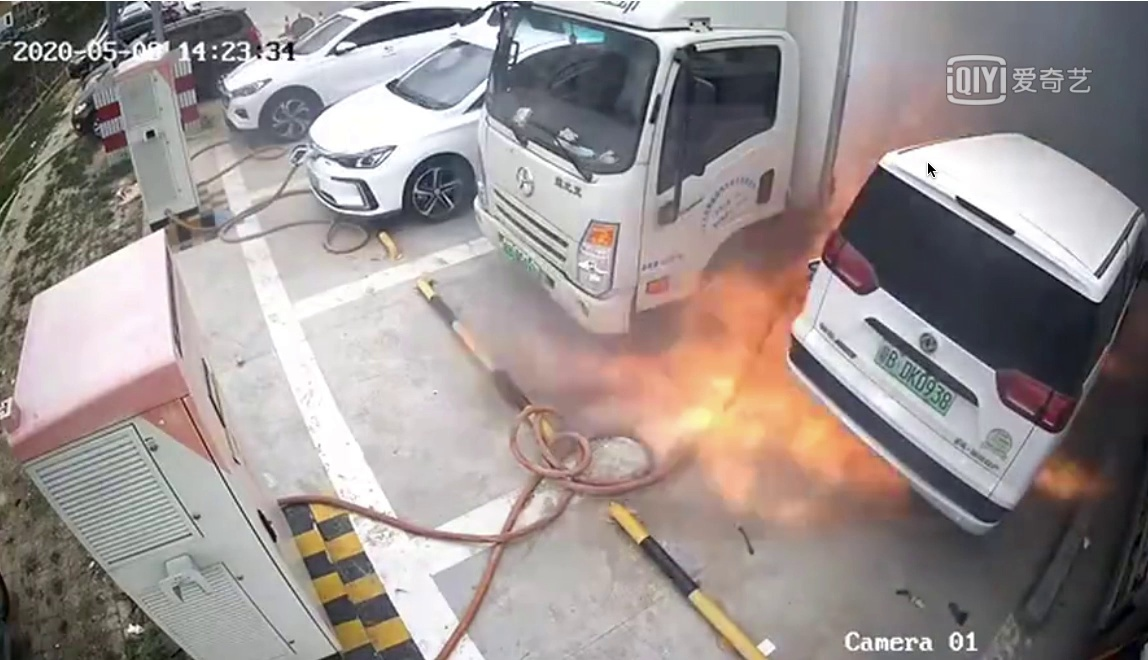fire: (588, 271, 874, 542)
